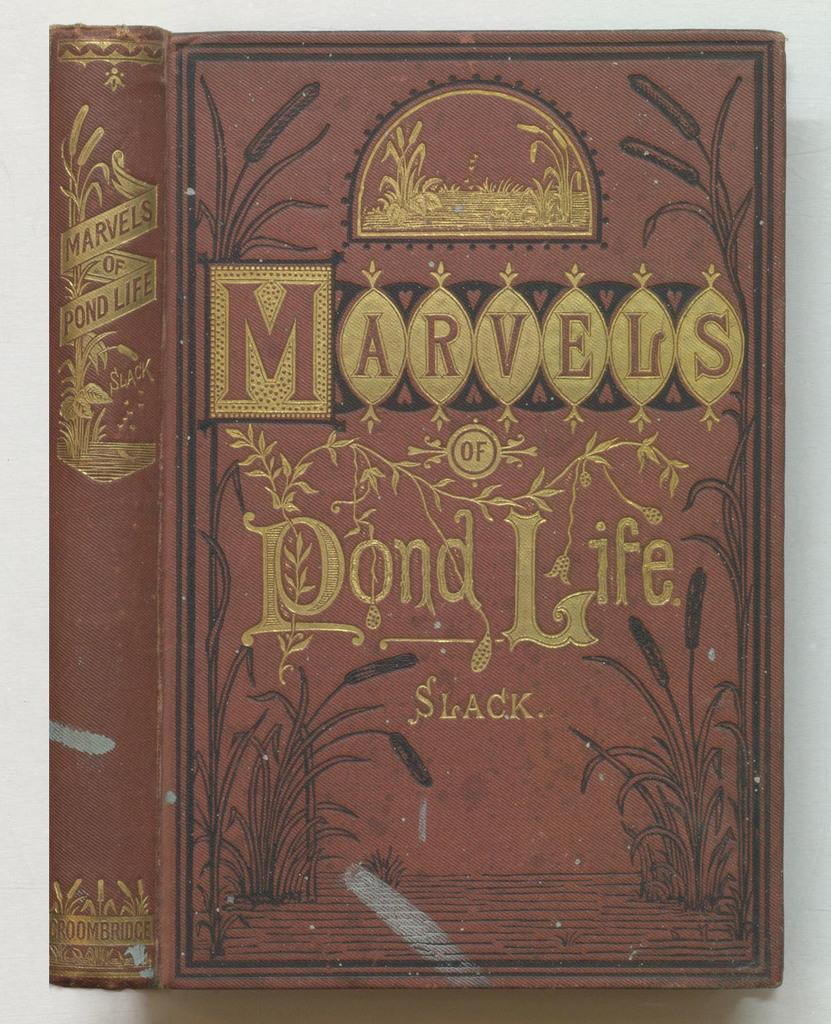book: (159, 33, 781, 988), (47, 23, 164, 982)
